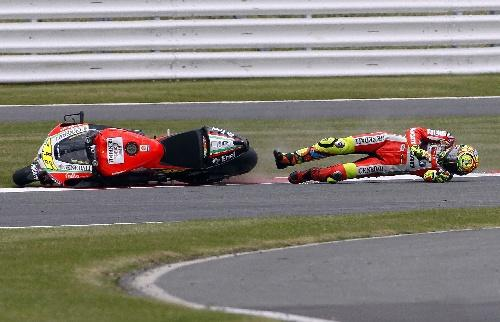fall: (267, 107, 484, 190)
